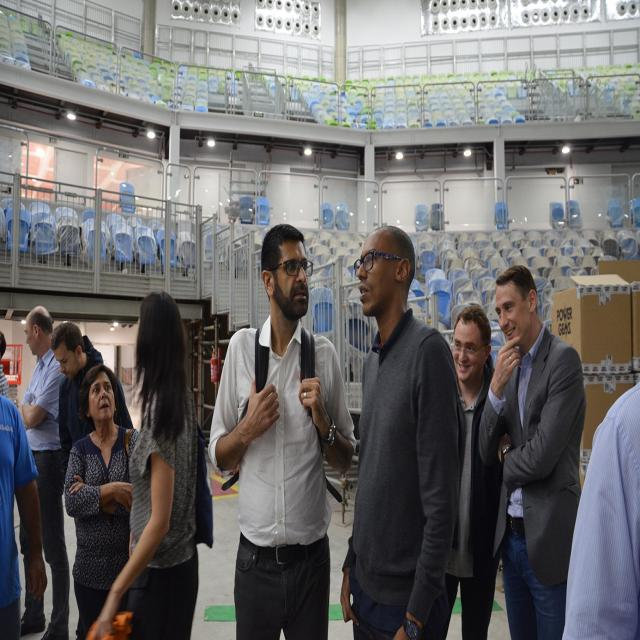body: (206, 222, 356, 638), (336, 217, 472, 639), (473, 258, 593, 640), (83, 289, 201, 639), (558, 361, 640, 637), (438, 300, 504, 640), (65, 364, 141, 636), (17, 304, 72, 636), (0, 323, 49, 640), (49, 320, 134, 474)
